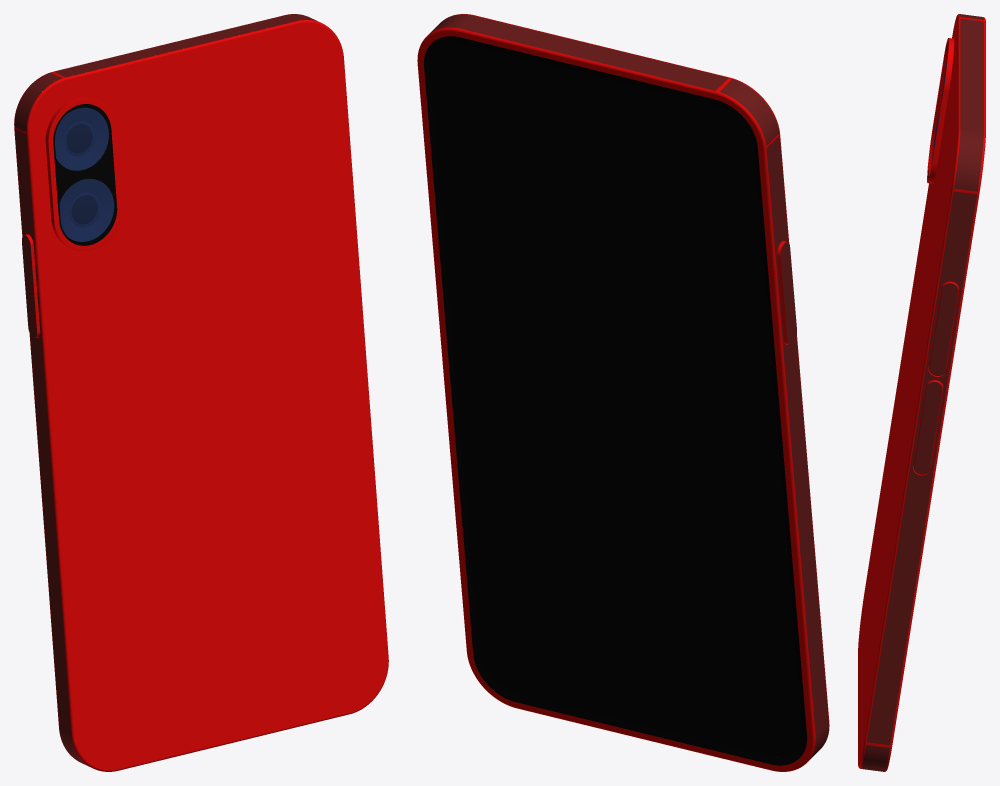
The model's file is phone-v1.glb.
3 renders of one model, left to right at view 1: azimuth 30°, elevation 25°; view 2: azimuth 150°, elevation 25°; view 3: azimuth 270°, elevation 25°, orthographic. The views are drawn at different scales.
Parts seen in each view (by area): view 1: phone 1_4, cover_1, cam case_3, B lens_0, U lens_2; view 2: phone 1_4; view 3: phone 1_4, cam case_3, cover_1.
Boxes of the visible parts, x1,y1,x2,y2 form: phone 1_4: (14,14,388,771); cover_1: (50,100,120,249); cam case_3: (45,97,121,250); B lens_0: (59,179,114,241); U lens_2: (55,107,108,170); phone 1_4: (417,14,829,771); phone 1_4: (858,14,985,771); cam case_3: (927,38,954,183); cover_1: (927,40,948,180).
Bounding box in the file's own units: 1.08 × 2.13 × 0.3857.
